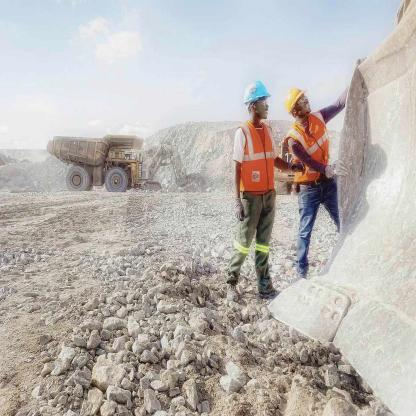person: (277, 76, 352, 283), (233, 81, 272, 308)
